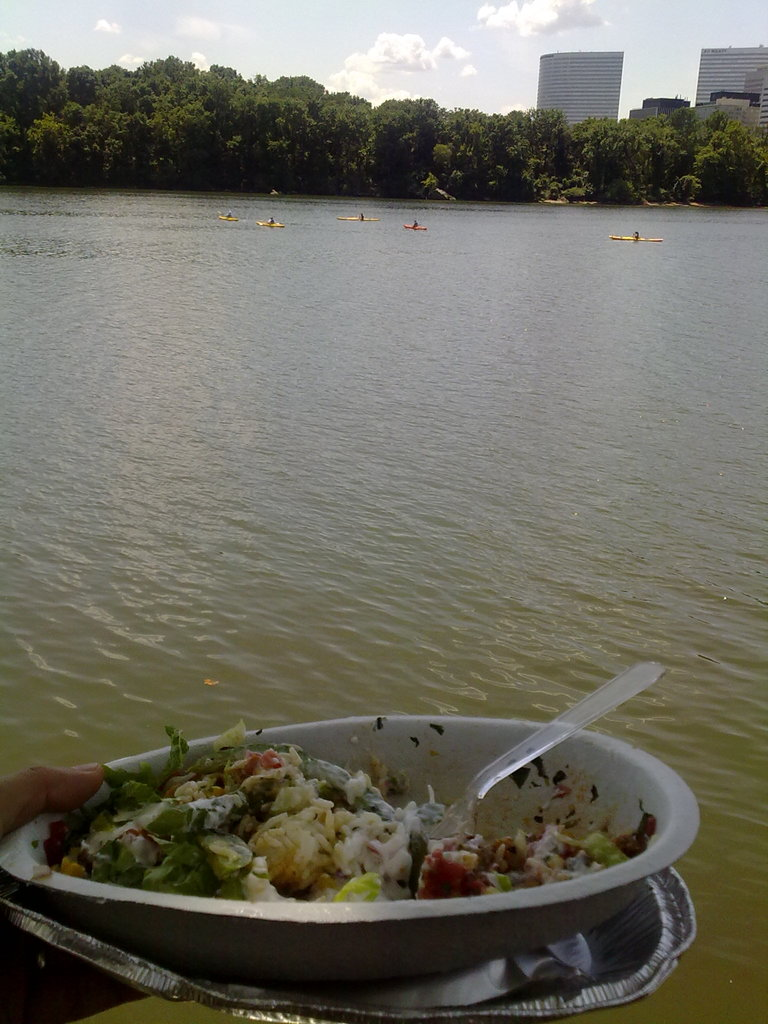salad: (40, 728, 660, 910)
